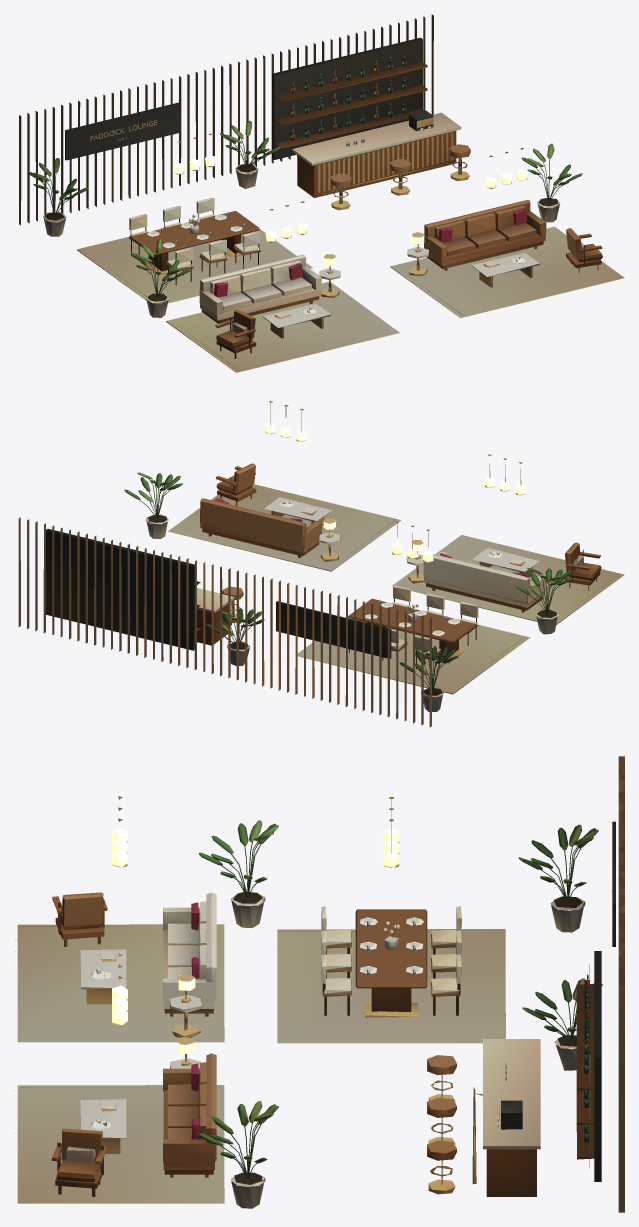
The model's file is pit_kit_2.glb.
3 renders of one model, top to bottom at view 1: azimuth 30°, elevation 25°; view 2: azimuth 150°, elevation 25°; view 3: azimuth 270°, elevation 25°, orthographic. The views are drawn at different scales.
Visible parts, largest first — view 1: kit_2; view 2: kit_2; view 3: kit_2.
Boxes of the visible parts, left/top/right/bottom form: kit_2: left=19, top=14, right=624, bottom=372; kit_2: left=18, top=401, right=624, bottom=727; kit_2: left=14, top=756, right=624, bottom=1212.
Bounding box in the file's own units: 13.66 × 3.59 × 11.12.
